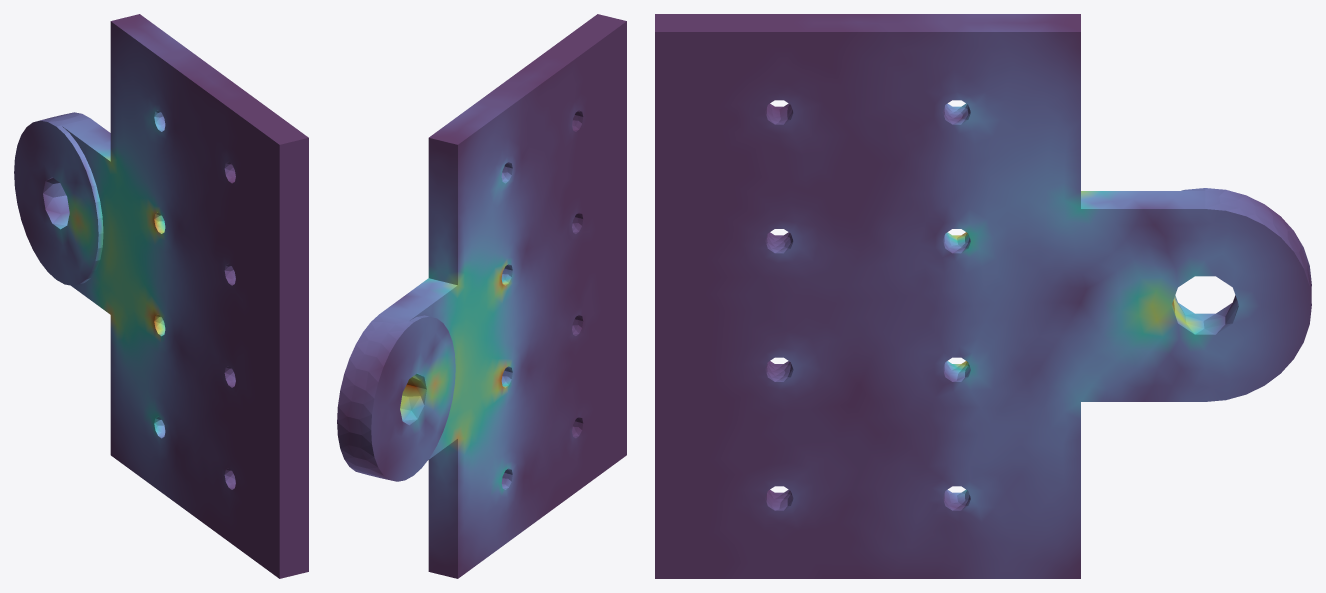
The model's file is CAD_W-FIT-RS.glb.
3 views of the same model, side by side, from view 1: azimuth 30°, elevation 25°; view 2: azimuth 150°, elevation 25°; view 3: azimuth 270°, elevation 25° (orthographic). The views are drawn at different scales.
Visible parts, largest first — view 1: geometry_0; view 2: geometry_0; view 3: geometry_0.
Part boxes in pixels (<box>): geometry_0: <box>14,14,308,578</box>; geometry_0: <box>337,14,626,578</box>; geometry_0: <box>655,14,1311,578</box>.
Bounding box in the file's own units: 0.014 × 0.17 × 0.185.
